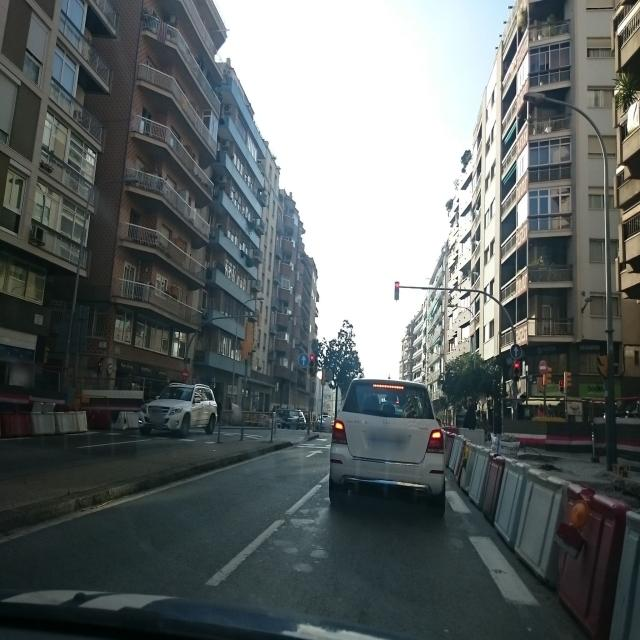car: (328, 376, 447, 515), (138, 382, 218, 438), (279, 409, 306, 429)
